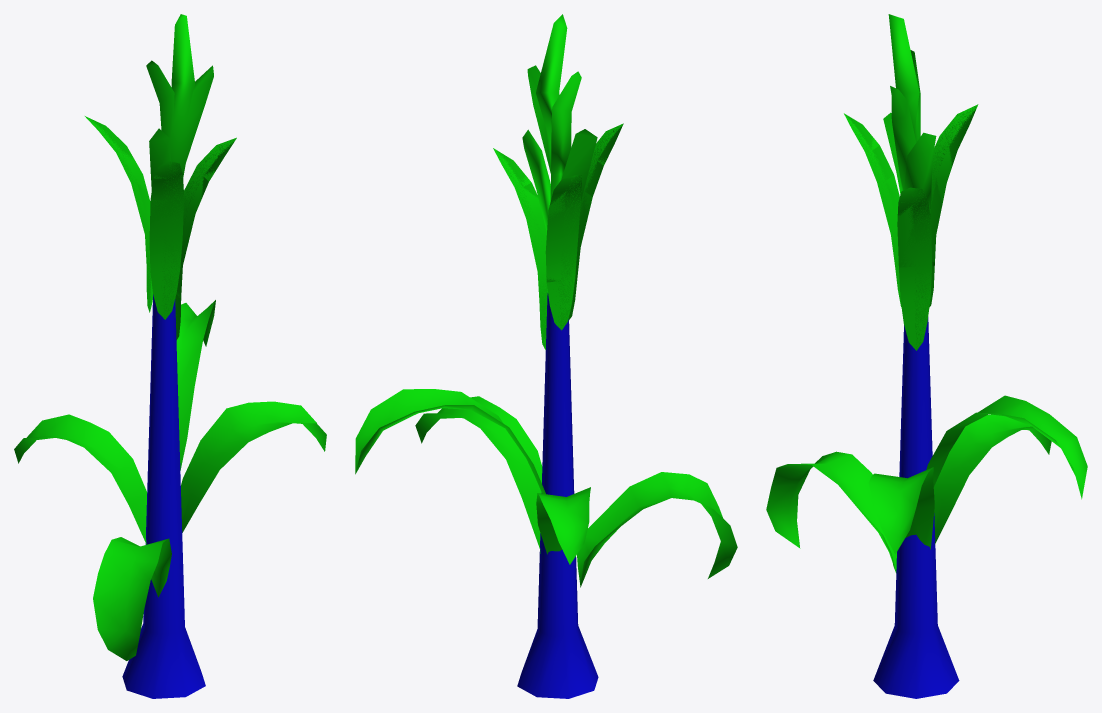
The model's file is Corn_2.fbx.
The picture shows the model from 3 angles, left to right: view 1: azimuth 30°, elevation 25°; view 2: azimuth 150°, elevation 25°; view 3: azimuth 270°, elevation 25°; orthographic projection. The views are drawn at different scales.
Parts seen in each view (by area): view 1: BSTC_Corn_2; view 2: BSTC_Corn_2; view 3: BSTC_Corn_2.
Part boxes in pixels (x1,y1,x2,y2): BSTC_Corn_2: (14, 14, 326, 698); BSTC_Corn_2: (355, 14, 737, 698); BSTC_Corn_2: (766, 14, 1087, 698).
Size of the model in its own units: 31.75 by 74.06 by 32.16.
